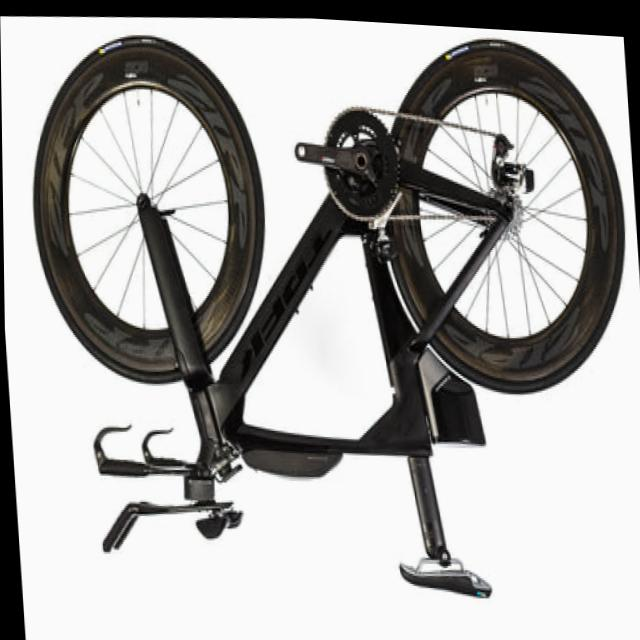TT-bike: (21, 1, 640, 625)
